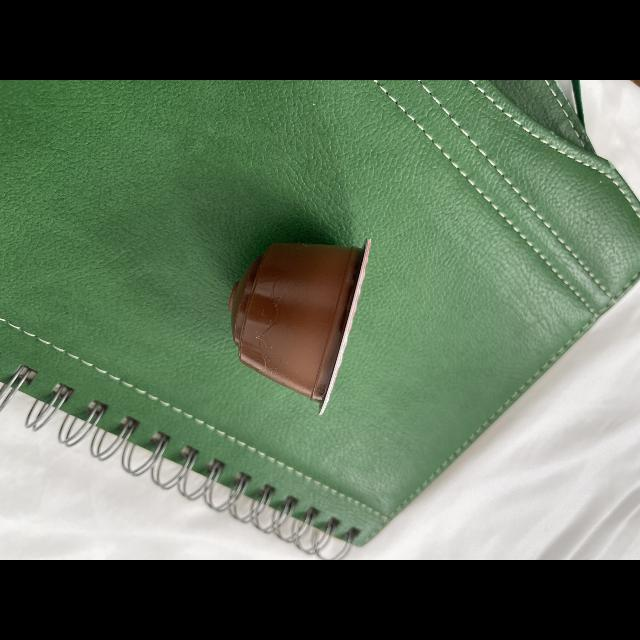intact_capsule: (223, 222, 383, 426)
